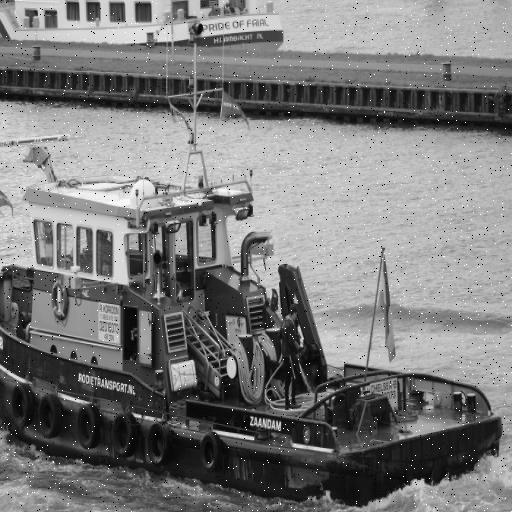tugboat: (1, 123, 508, 512)
